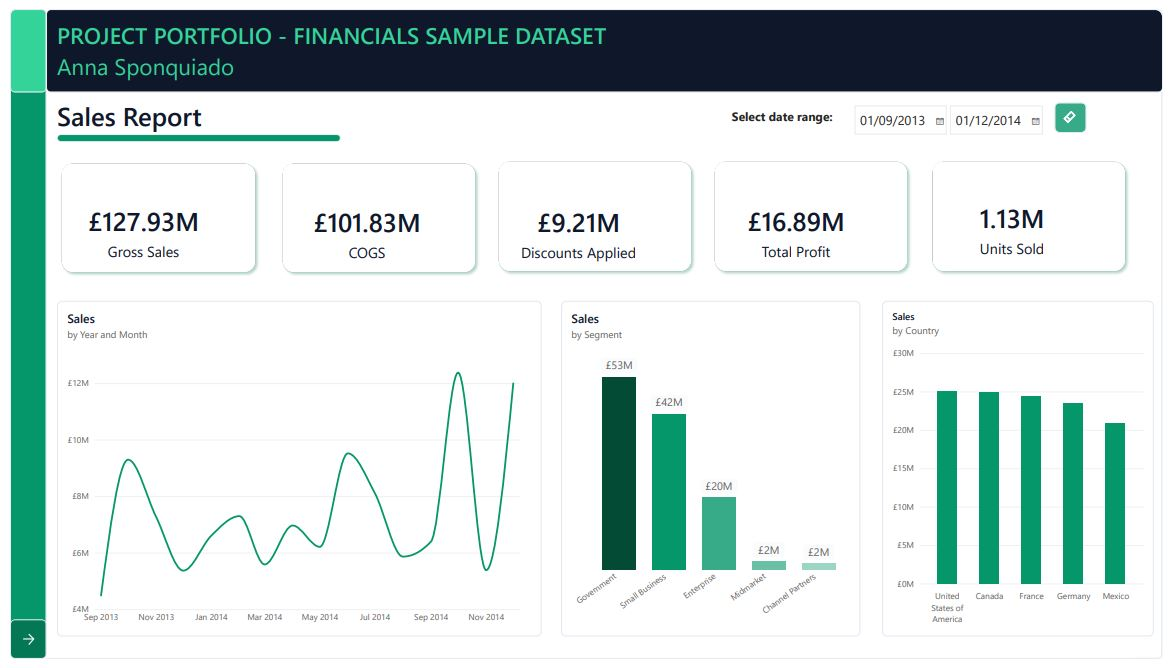

What the dashboard file says about the page in this screenshot:
{"tool":"powerbi","page":{"name":"Page 1","canvas":[1920,1080],"ordinal":0},"visuals":[{"type":"shape","box":[0,0,1919.1,1080],"z":0},{"type":"shape","box":[0,0,60,1080],"z":0,"group":"g4"},{"type":"shape","box":[60,0,1860,137.5],"z":0,"group":"g3"},{"type":"slicer","fields":{"Values":["financials.Date"]},"box":[1399,155,341,52.5],"z":0,"group":"g2"},{"type":"shape","box":[77.5,247.5,337.5,197.5],"z":0,"group":"g1"},{"type":"shape","box":[0,0,60,137.5],"z":1000,"group":"g4"},{"type":"textbox","title":"PROJECT PORTFOLIO - FINANCIALS SAMPLE DATASET","box":[77.5,17.5,1160.5,105.5],"z":1000,"group":"g3"},{"type":"textbox","box":[1165,155,242.7,53.7],"z":1000,"group":"g2"},{"type":"shape","box":[445,247.5,337.5,197.5],"z":1000,"group":"g1"},{"type":"columnChart","fields":{"Category":["financials.Country"],"Y":["Sum(financials. Sales)"]},"box":[1452.5,485,452.5,557.5],"z":1000},{"type":"shape","box":[805,245,337.5,197.5],"z":2000,"group":"g1"},{"type":"lineClusteredColumnComboChart","fields":{"Category":["financials.Segment"],"Y":["Sum(financials. Sales)"]},"box":[918.1,485,497.5,557.5],"z":2000},{"type":"textbox","title":"Sales Report","box":[77.5,147.5,672.5,60],"z":3000},{"type":"shape","box":[1165,245,337.5,197.5],"z":3000,"group":"g1"},{"type":"shape","box":[1527.5,245,337.5,197.5],"z":4000,"group":"g1"},{"type":"lineChart","fields":{"Category":["financials.Date.Variation.Date Hierarchy.Year","financials.Date.Variation.Date Hierarchy.Month"],"Y":["Sum(financials. Sales)"]},"box":[77.5,485,807.5,557.5],"z":4000},{"type":"shape","box":[77.5,207.5,472.5,12.5],"z":5000},{"type":"group","id":"g1","title":"CARDS","box":[77.5,245,1787.5,200],"z":6000},{"type":"cardVisual","fields":{"Data":["Sum(financials.Profit)"]},"box":[1165.8,292.5,287.5,157.5],"z":7000},{"type":"cardVisual","fields":{"Data":["Sum(financials.Gross Sales)"]},"box":[78.3,292.5,287.5,157.5],"z":8000},{"type":"cardVisual","fields":{"Data":["Sum(financials.Discounts)"]},"box":[803.3,295,287.5,157.5],"z":9000},{"type":"cardVisual","fields":{"Data":["Sum(financials.Units Sold)"]},"box":[1525.8,287.5,287.5,157.5],"z":10000},{"type":"cardVisual","fields":{"Data":["Sum(financials.COGS)"]},"box":[450.8,295,287.5,157.5],"z":11000},{"type":"group","id":"g2","title":"date filter","box":[1165,155,575,52.5],"z":12000},{"type":"group","id":"g3","title":"Header","box":[60,0,1860,137.5],"z":13000},{"type":"group","id":"g4","title":"side bar","box":[0,0,60,1080],"z":14000},{"type":"actionButton","box":[0,1015,60,65],"z":15000},{"type":"actionButton","box":[1740,155,52.5,50],"z":16000}]}

Visuals, with their boxes in screenshot pixels (x1, y1, x2, y2), scaled from the page's 1920x1080 canvas onto the 1174x668 screenshot:
shape: (0, 0, 1173, 667)
shape: (0, 0, 37, 667)
shape: (37, 0, 1173, 85)
slicer - financials.Date: (855, 96, 1064, 128)
shape: (47, 153, 254, 275)
shape: (0, 0, 37, 85)
"PROJECT PORTFOLIO - FINANCIALS SAMPLE DATASET" textbox: (47, 11, 757, 76)
textbox: (712, 96, 861, 129)
shape: (272, 153, 478, 275)
columnChart - financials.Country x Sum(financials. Sales): (888, 300, 1165, 645)
shape: (492, 152, 699, 274)
lineClusteredColumnComboChart - financials.Segment x Sum(financials. Sales): (561, 300, 866, 645)
"Sales Report" textbox: (47, 91, 459, 128)
shape: (712, 152, 919, 274)
shape: (934, 152, 1140, 274)
lineChart - financials.Date.Variation.Date Hierarchy.Year x financials.Date.Variation.Date Hierarchy.Month: (47, 300, 541, 645)
shape: (47, 128, 336, 136)
"CARDS" group: (47, 152, 1140, 275)
cardVisual - Sum(financials.Profit): (713, 181, 889, 278)
cardVisual - Sum(financials.Gross Sales): (48, 181, 224, 278)
cardVisual - Sum(financials.Discounts): (491, 182, 667, 280)
cardVisual - Sum(financials.Units Sold): (933, 178, 1109, 275)
cardVisual - Sum(financials.COGS): (276, 182, 451, 280)
"date filter" group: (712, 96, 1064, 128)
"Header" group: (37, 0, 1173, 85)
"side bar" group: (0, 0, 37, 667)
actionButton: (0, 628, 37, 667)
actionButton: (1064, 96, 1096, 127)
